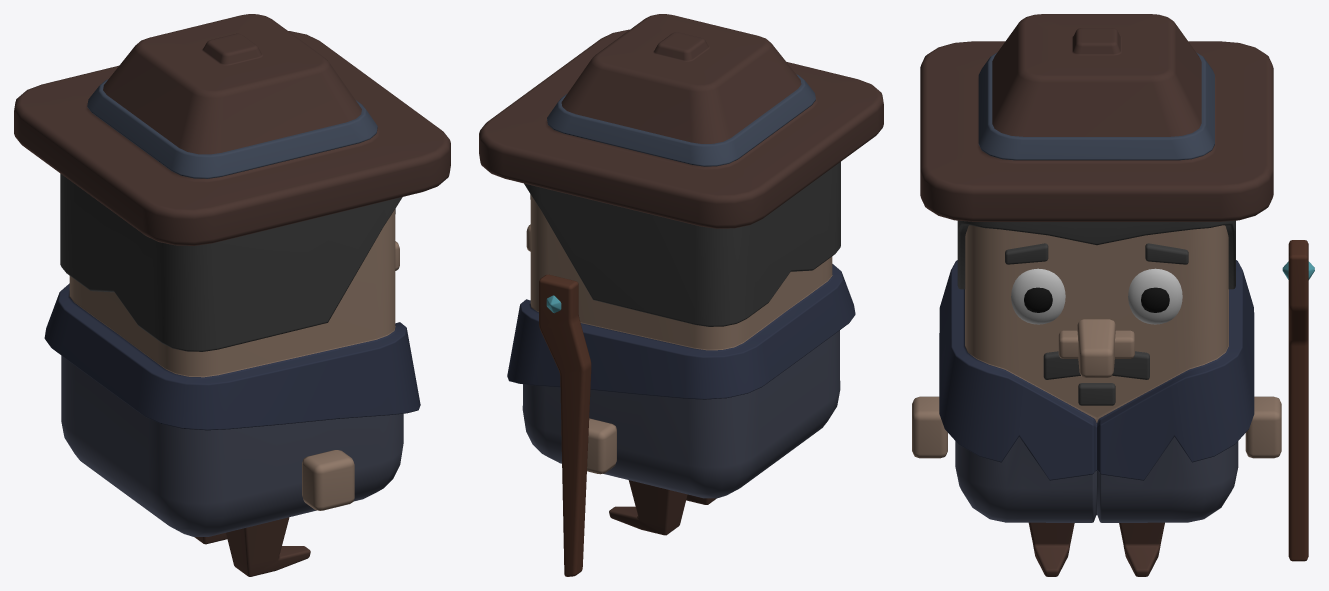
The model's file is Character_3D_01.fbx.
3 views of the same model, side by side, from view 1: azimuth 30°, elevation 25°; view 2: azimuth 150°, elevation 25°; view 3: azimuth 270°, elevation 25° (orthographic). The views are drawn at different scales.
Visible parts, largest first — view 1: Hat, Body, Hair, Leg_R, Hand_R; view 2: Hat, Body, Hair, Woodstick, Leg_L, Hand_L; view 3: Body, Hat, Woodstick, Hair, Base (×2), Noze, Hand_L, Hand_R, Leg_L, Leg_R, Moustache, EyeBrow (×2) (+2 smaller).
Part boxes in pixels (<box>): Hat: <box>14,14,450,245</box>; Body: <box>44,209,420,536</box>; Hair: <box>60,173,402,351</box>; Leg_R: <box>226,517,310,576</box>; Hand_R: <box>302,450,354,510</box>; Hat: <box>479,14,883,228</box>; Body: <box>507,195,855,498</box>; Hair: <box>524,162,840,326</box>; Woodstick: <box>539,274,591,576</box>; Leg_L: <box>609,480,687,535</box>; Hand_L: <box>587,418,616,474</box>; Body: <box>939,225,1254,522</box>; Hat: <box>920,14,1273,221</box>; Woodstick: <box>1282,240,1314,561</box>; Hair: <box>957,220,1235,289</box>; Base (×2): <box>1011,268,1182,324</box>; Noze: <box>1058,319,1134,377</box>; Hand_L: <box>1245,396,1281,458</box>; Hand_R: <box>912,396,947,458</box>; Leg_L: <box>1119,522,1164,576</box>; Leg_R: <box>1028,522,1074,576</box>; Moustache: <box>1043,351,1149,379</box>; EyeBrow (×2): <box>1005,243,1188,264</box>.
Bounding box in the file's own units: 1.28 × 2 × 1.42.
